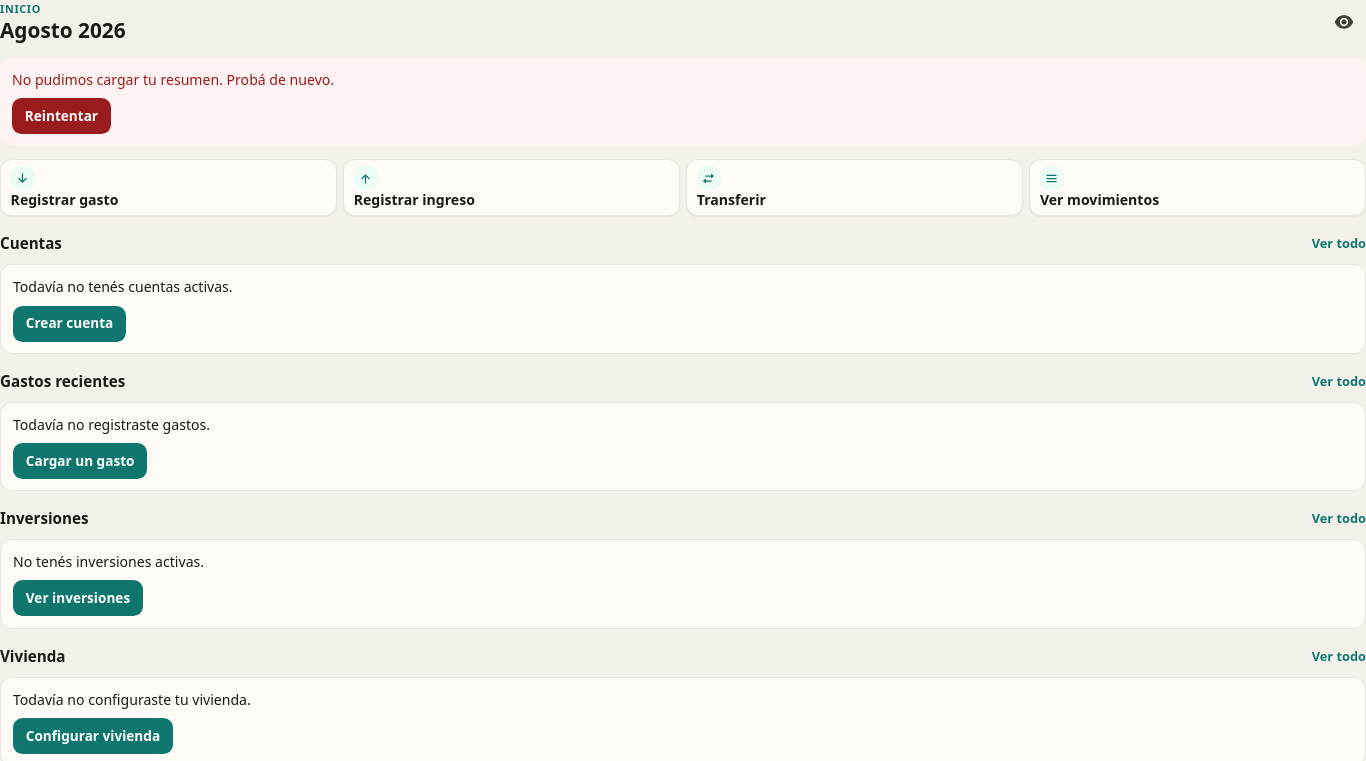
Test: Dashboard › links the quick actions and recovers from an API error
expect the text "No pudimos cargar tu resumen. Probá de nuevo." is shown: met, box [12,69,334,90]
Click the button "Reintentar".
click(61, 116)  # box [12,98,111,134]
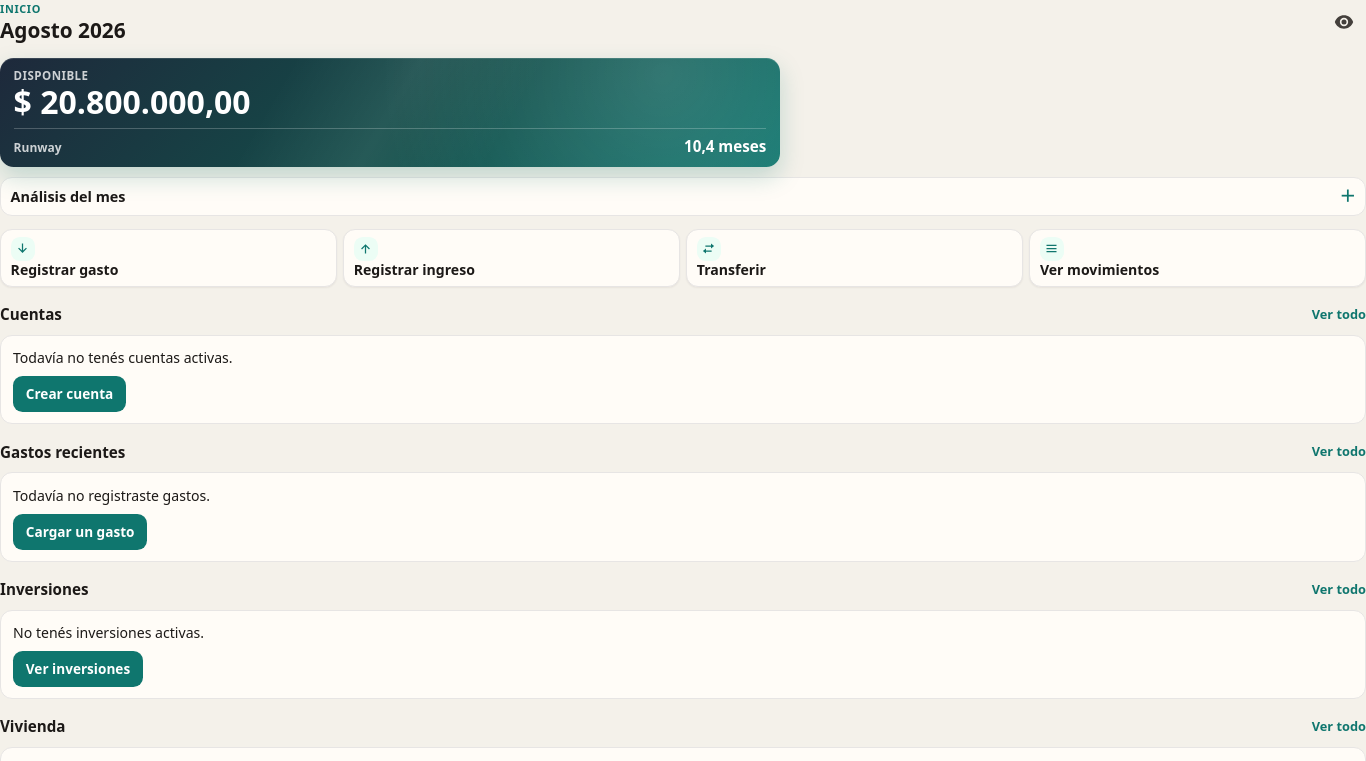
expect the text "$ 20.800.000,00" is shown: met, box [14,80,251,124]
